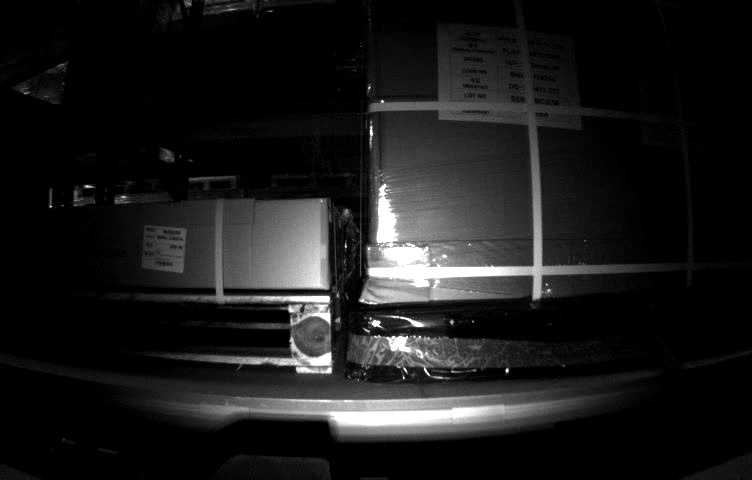True Barcode: (138, 222, 183, 276)
